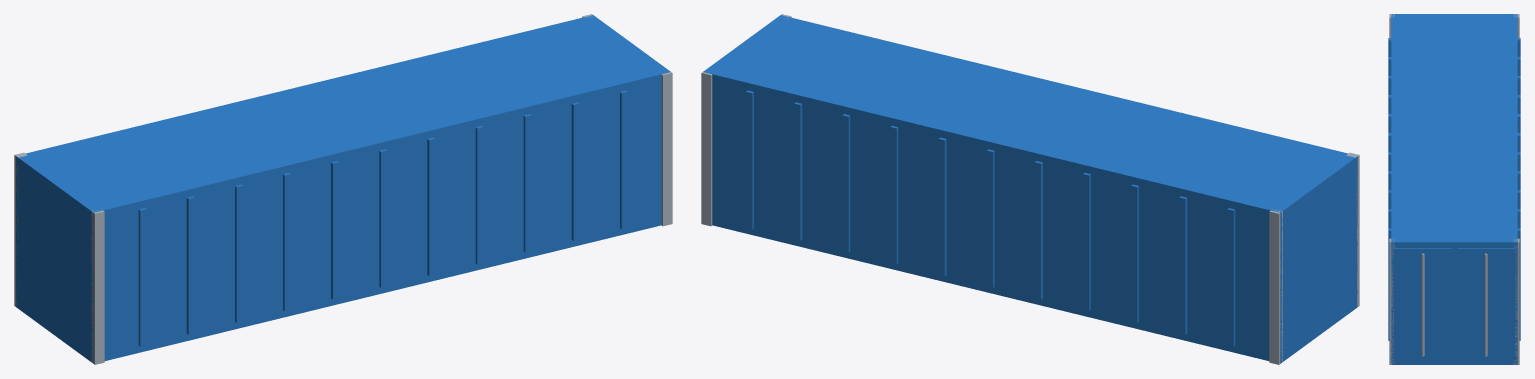
Rendered from shipping_container_blue.glb.
The picture shows the model from 3 angles, left to right: view 1: azimuth 30°, elevation 25°; view 2: azimuth 150°, elevation 25°; view 3: azimuth 270°, elevation 25°; orthographic projection. The views are drawn at different scales.
Parts seen in each view (by area): view 1: shipping_container_blue__static; view 2: shipping_container_blue__static; view 3: shipping_container_blue__static.
Boxes of the visible parts, bbox=[...] form: shipping_container_blue__static: bbox=[14, 14, 672, 364]; shipping_container_blue__static: bbox=[701, 14, 1359, 364]; shipping_container_blue__static: bbox=[1388, 14, 1520, 364].
Size of the model in its own units: 12.1 by 3 by 2.93.
